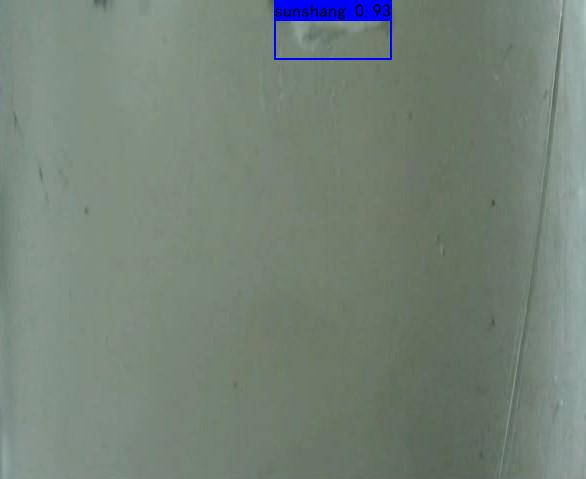sunshang: (481, 2, 576, 472), (271, 1, 399, 53)
